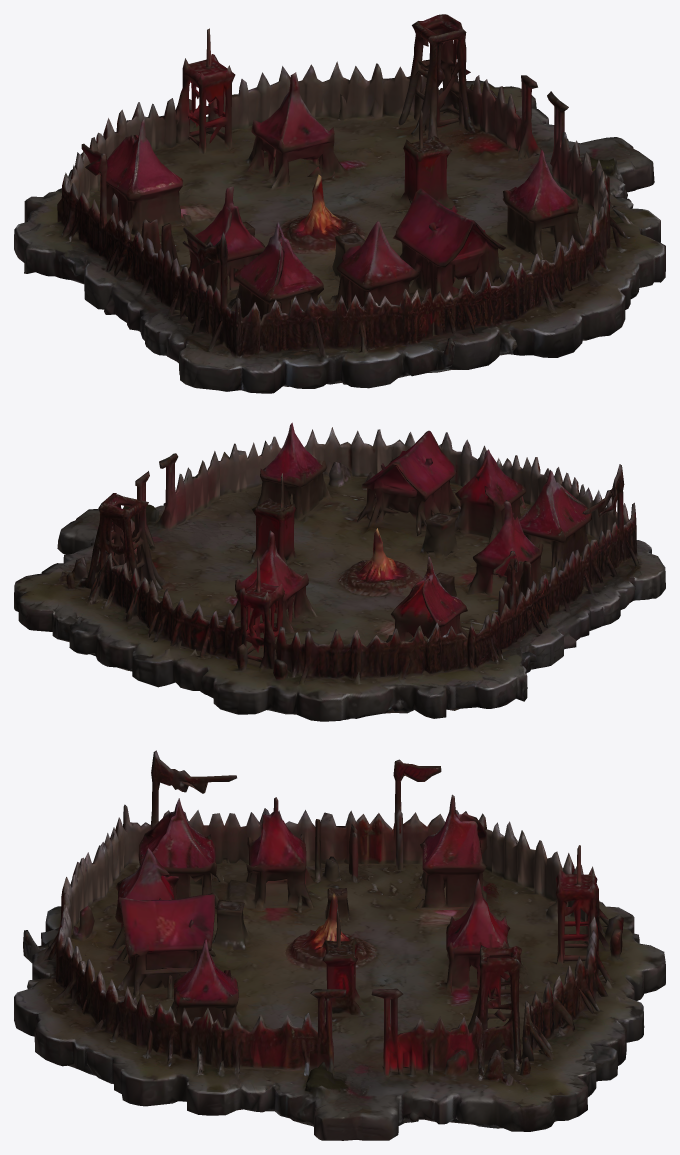
File: campamentoVengativo.obj
3 renders of one model, top to bottom at view 1: azimuth 30°, elevation 25°; view 2: azimuth 150°, elevation 25°; view 3: azimuth 270°, elevation 25°, orthographic. The views are drawn at different scales.
Parts seen in each view (by area): view 1: tripo_node_f7153759-1525-4e13-a0d9-e15206e90008; view 2: tripo_node_f7153759-1525-4e13-a0d9-e15206e90008; view 3: tripo_node_f7153759-1525-4e13-a0d9-e15206e90008.
Part boxes in pixels (left/top/right/bottom): tripo_node_f7153759-1525-4e13-a0d9-e15206e90008: left=14, top=14, right=665, bottom=393; tripo_node_f7153759-1525-4e13-a0d9-e15206e90008: left=14, top=422, right=665, bottom=721; tripo_node_f7153759-1525-4e13-a0d9-e15206e90008: left=14, top=750, right=665, bottom=1140.
Size of the model in its own units: 1 by 0.2487 by 0.9993.
Materials: 1 (1 with a texture image).
